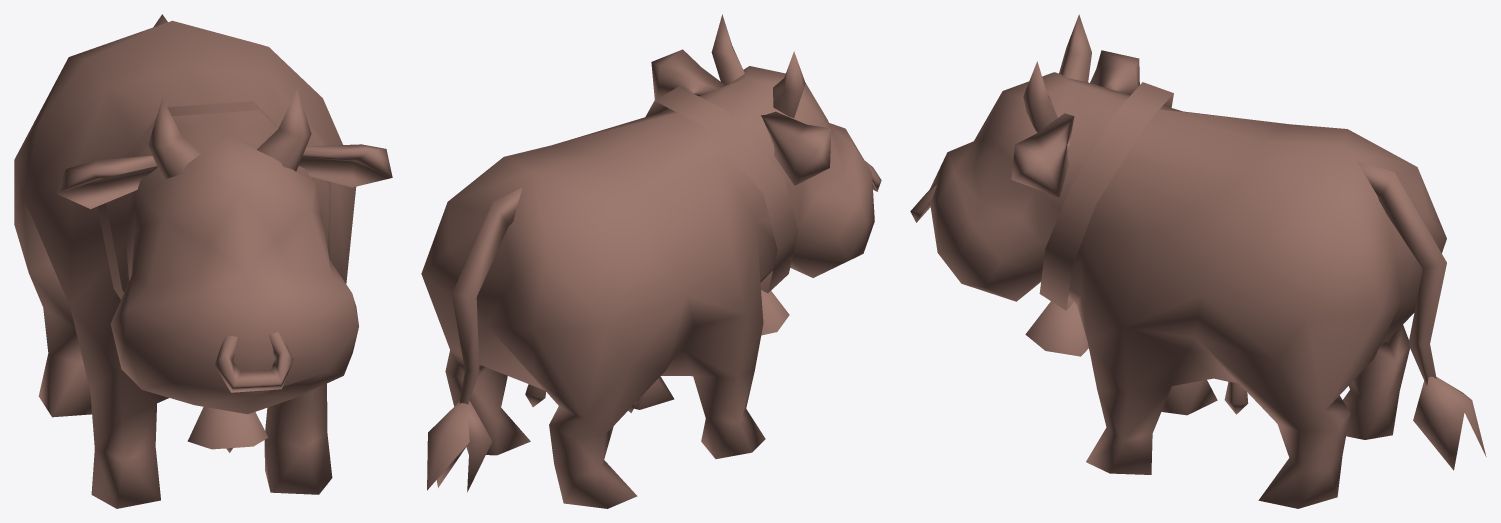
File: COW.fbx
The picture shows the model from 3 angles, left to right: view 1: azimuth 30°, elevation 25°; view 2: azimuth 150°, elevation 25°; view 3: azimuth 270°, elevation 25°; orthographic projection. The views are drawn at different scales.
Visible parts, largest first — view 1: COW; view 2: COW; view 3: COW.
Part boxes in pixels (x1=…): COW: x1=14, y1=14, x2=392, y2=508; COW: x1=421, y1=14, x2=881, y2=508; COW: x1=910, y1=14, x2=1486, y2=508.
Bounding box in the file's own units: 68.99 × 78.24 × 107.
